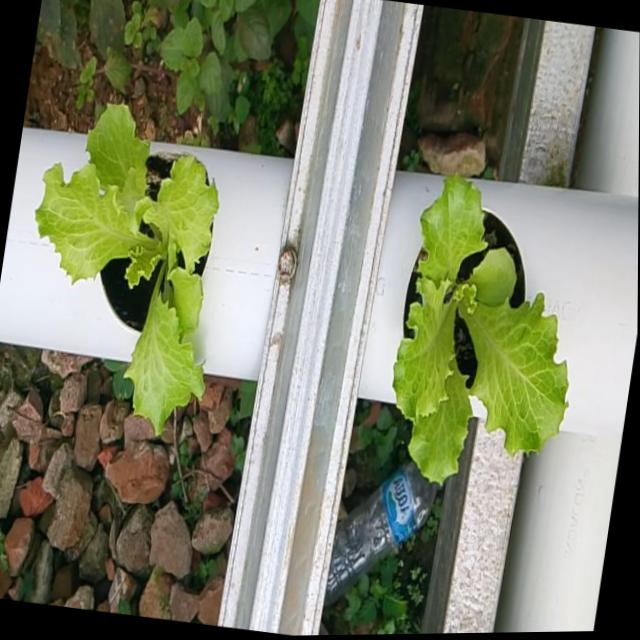Baby: (33, 103, 217, 435), (391, 170, 568, 484)
